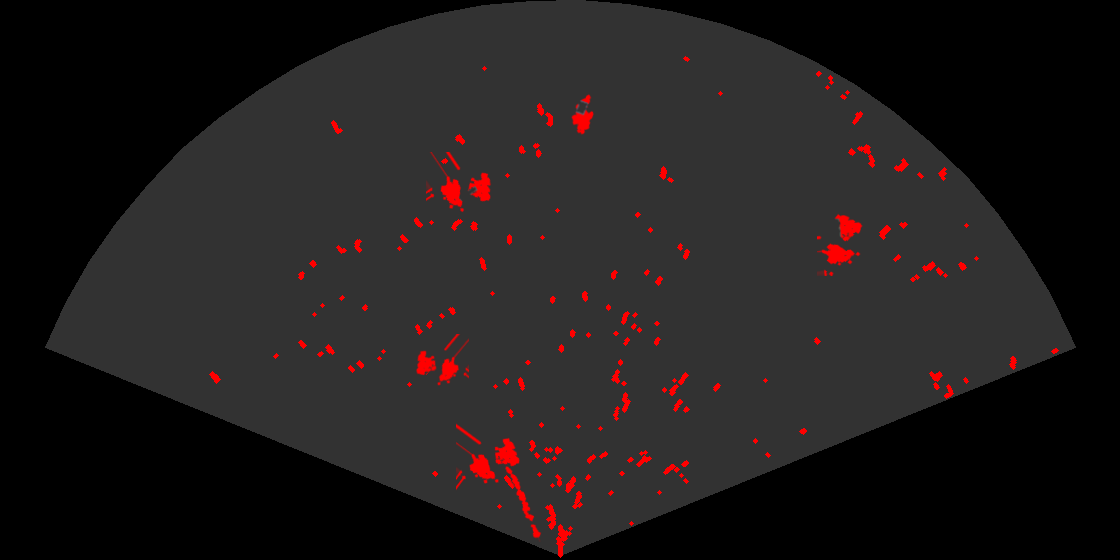AUV: (570, 93, 596, 136)
cage: (456, 422, 521, 492), (426, 152, 493, 214), (817, 212, 864, 276), (415, 334, 469, 387)
chain: (504, 464, 543, 542)
